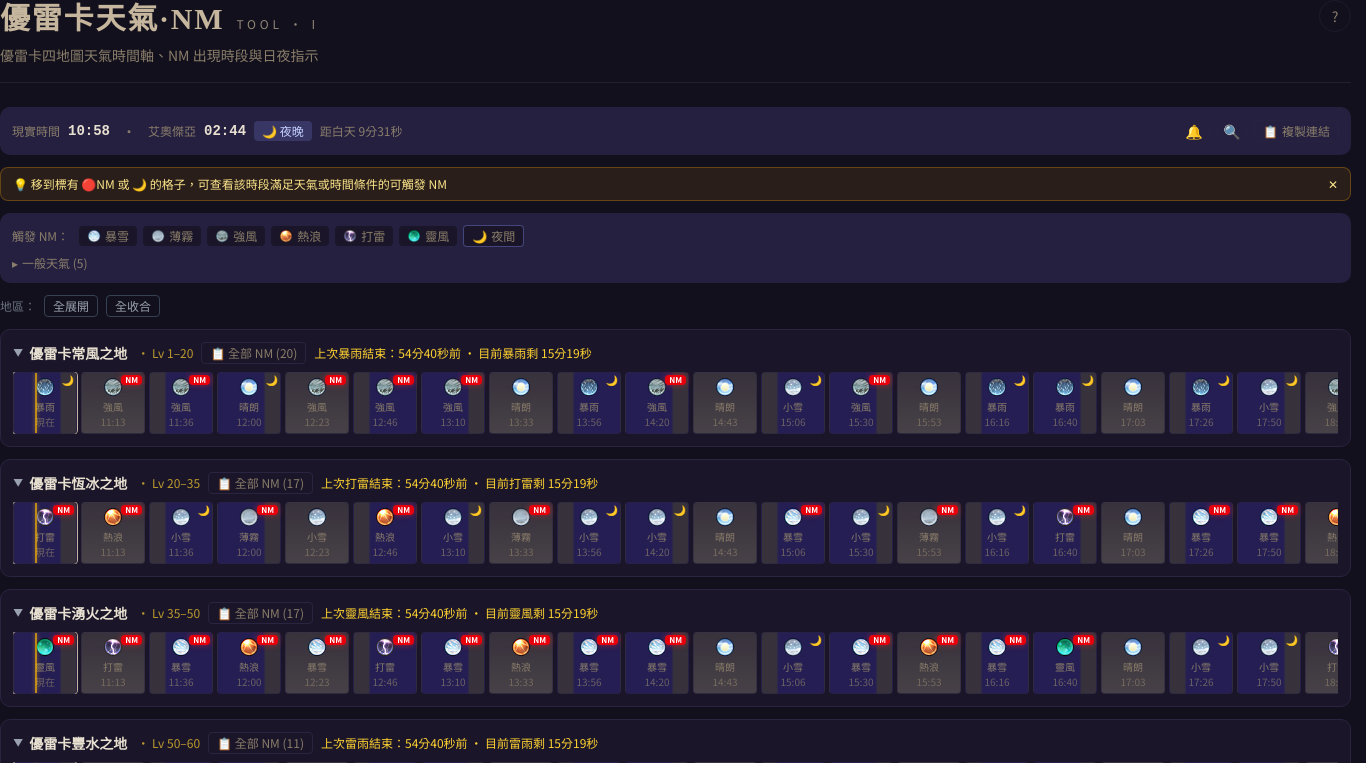
EurekaWeatherPage › opens NmSearchPanel when search button is clicked
Click the button named "搜尋 NM": [1232, 131] box [1216, 115, 1248, 147]
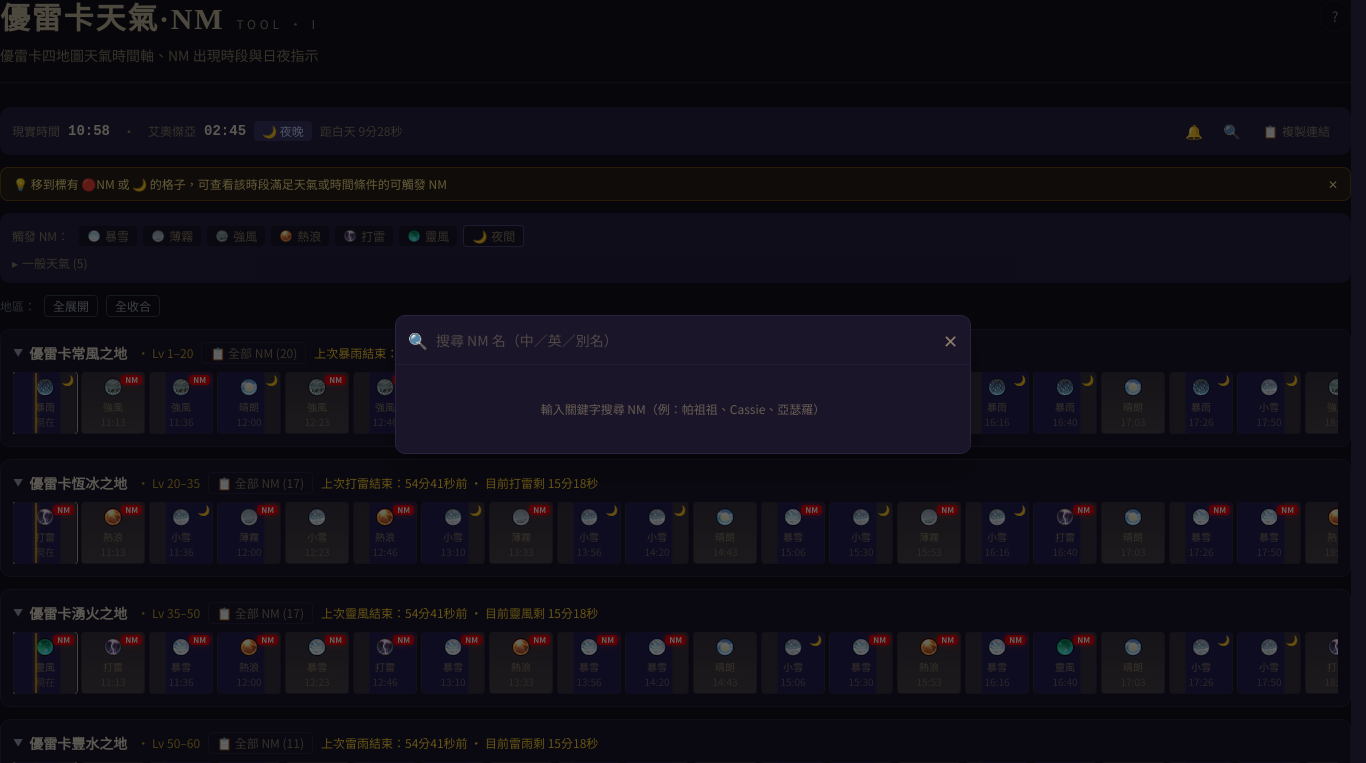
Now the field with placeholder "搜尋 NM 名（中／英／別名）" is shown, box [436, 330, 935, 350]
